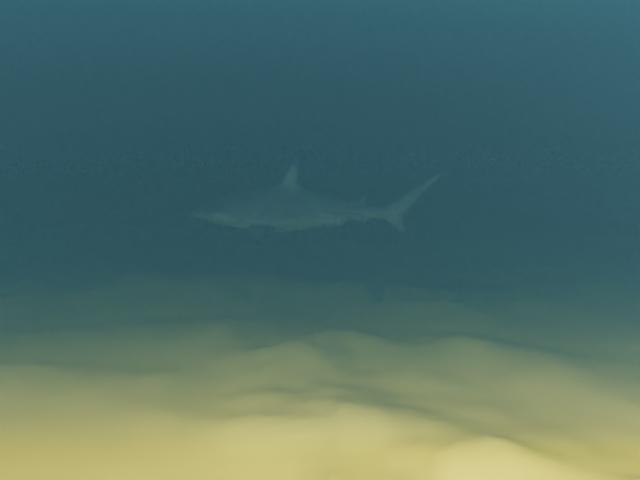Carribean Shark.001: (190, 160, 449, 246)
